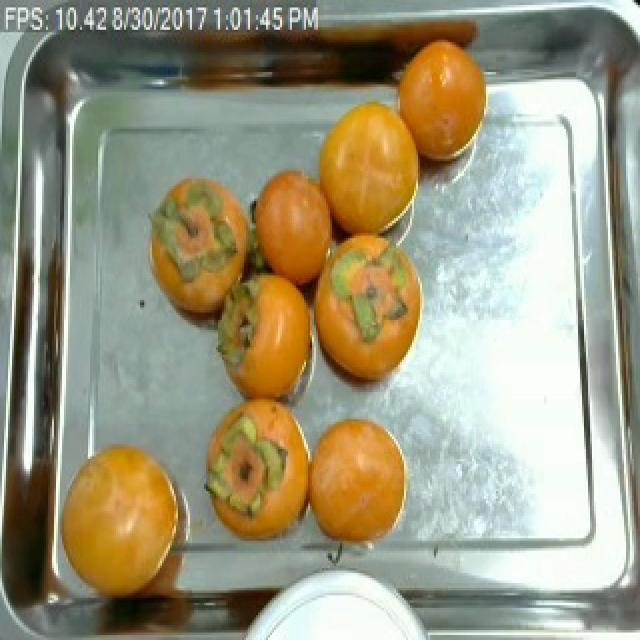Fruit: (56, 429, 194, 608), (314, 223, 434, 417), (292, 399, 426, 568), (192, 385, 322, 558), (308, 90, 428, 256), (144, 164, 258, 337), (384, 22, 496, 191), (210, 260, 314, 422), (242, 158, 344, 298)
